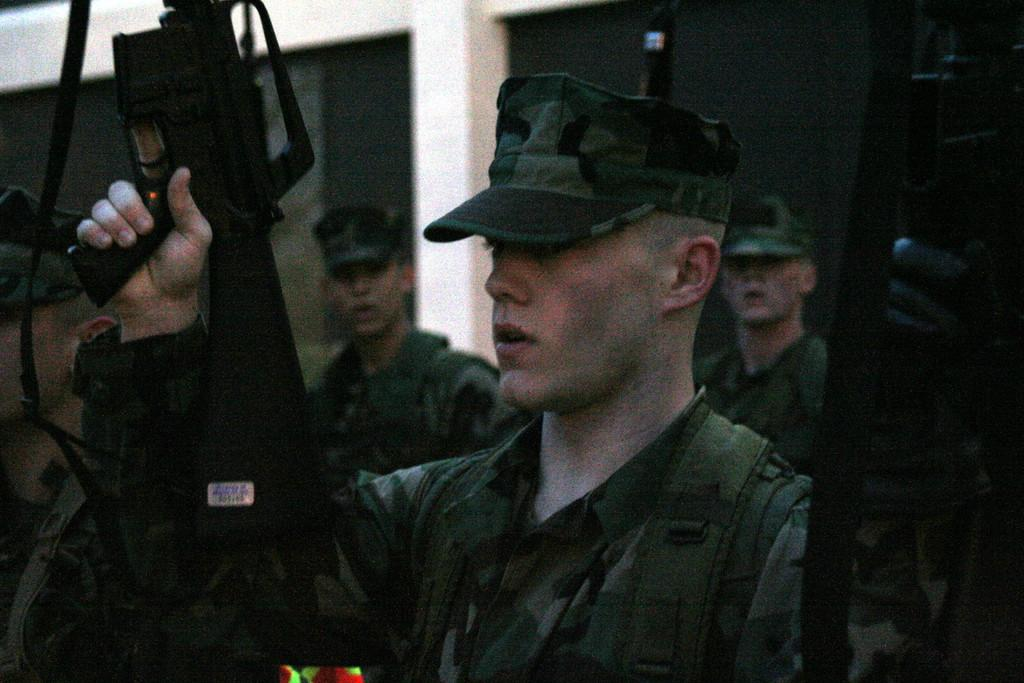Hat: (420, 68, 744, 242), (0, 182, 81, 310), (718, 196, 813, 260), (312, 204, 411, 263)
